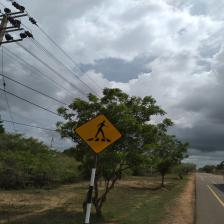yellowboard: (73, 113, 122, 154)
